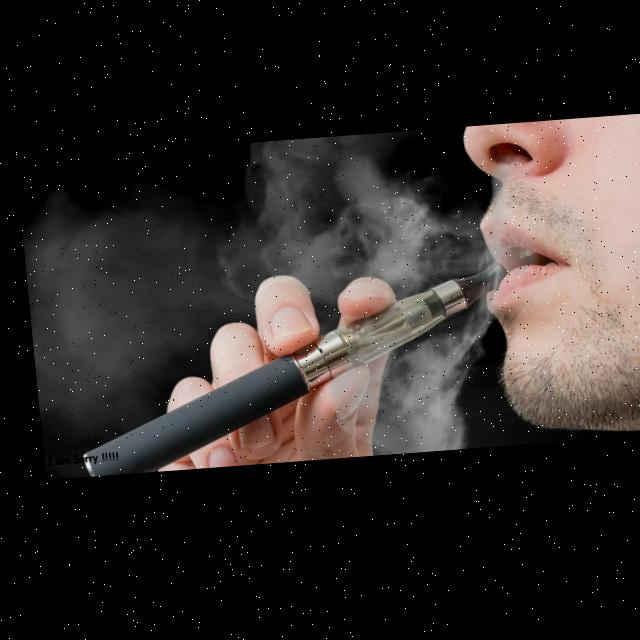vape: (61, 269, 514, 477)
